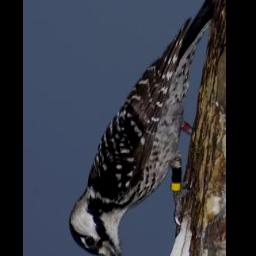Woodpecker: (67, 0, 217, 256)
